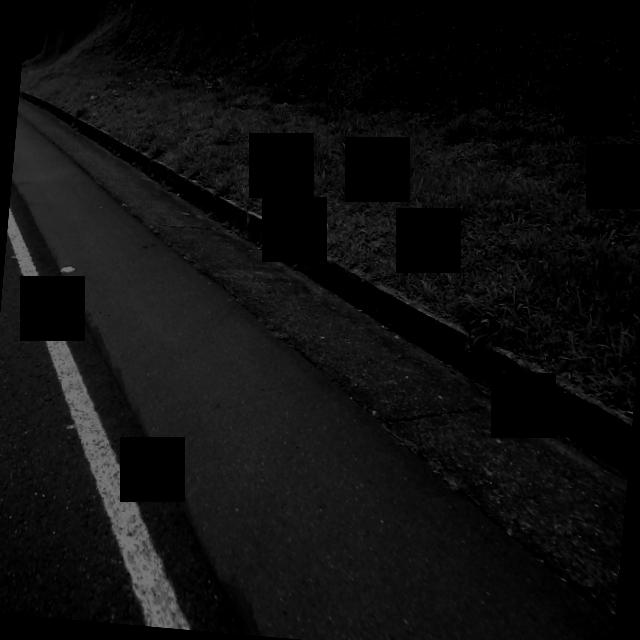DITCH: (0, 59, 640, 640), (0, 81, 640, 640), (0, 88, 640, 640)
